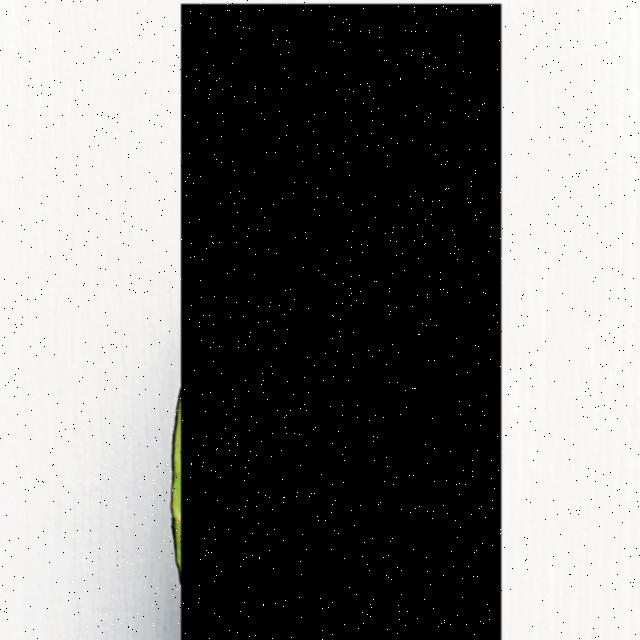Avocado: (181, 4, 502, 640)
